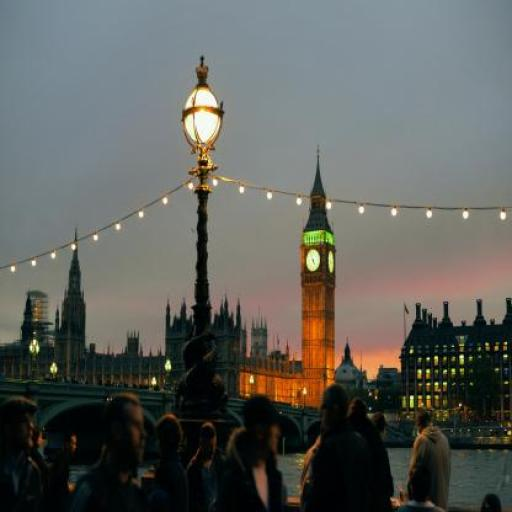street light: (180, 55, 226, 439)
